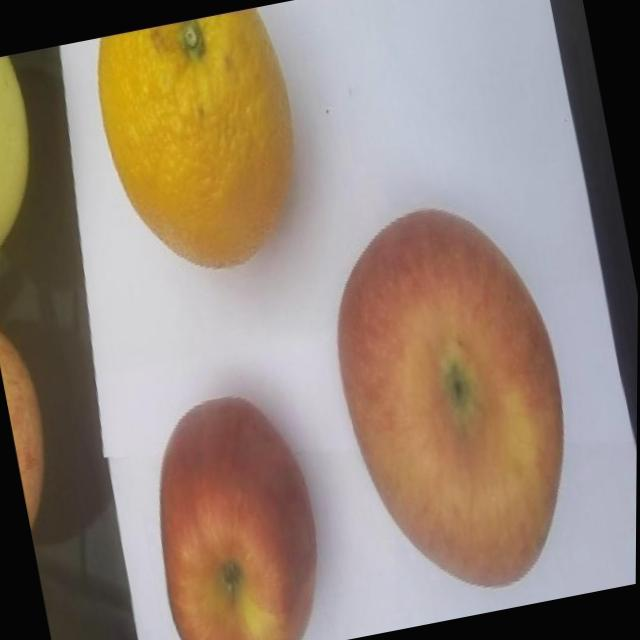Apple: (312, 187, 599, 609), (132, 382, 340, 640), (0, 318, 65, 530)
Orange: (87, 3, 320, 286)
